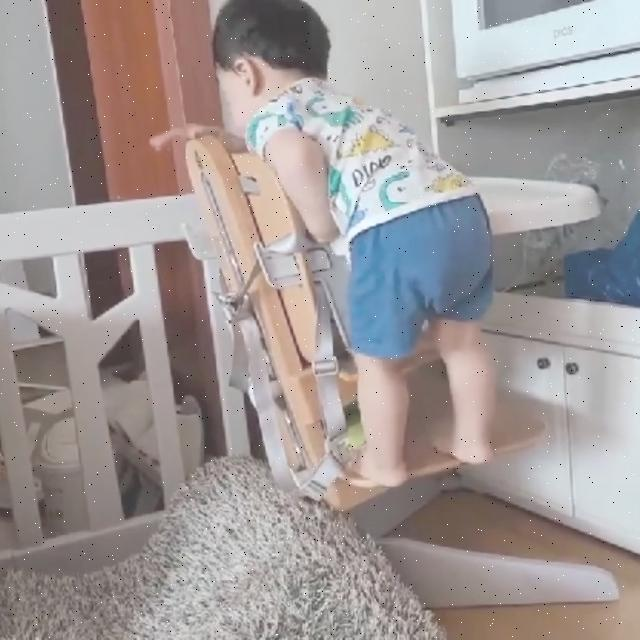child: (193, 0, 500, 496)
